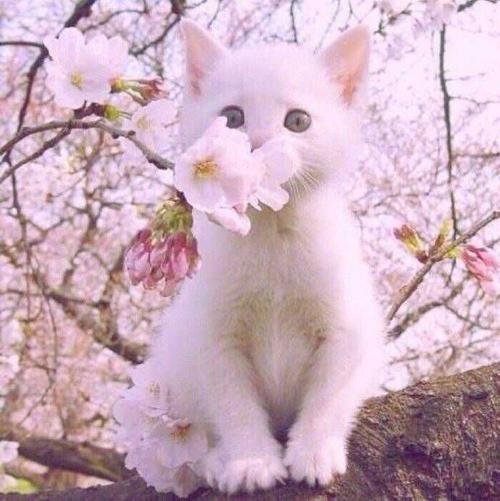cat: (147, 26, 396, 226)
